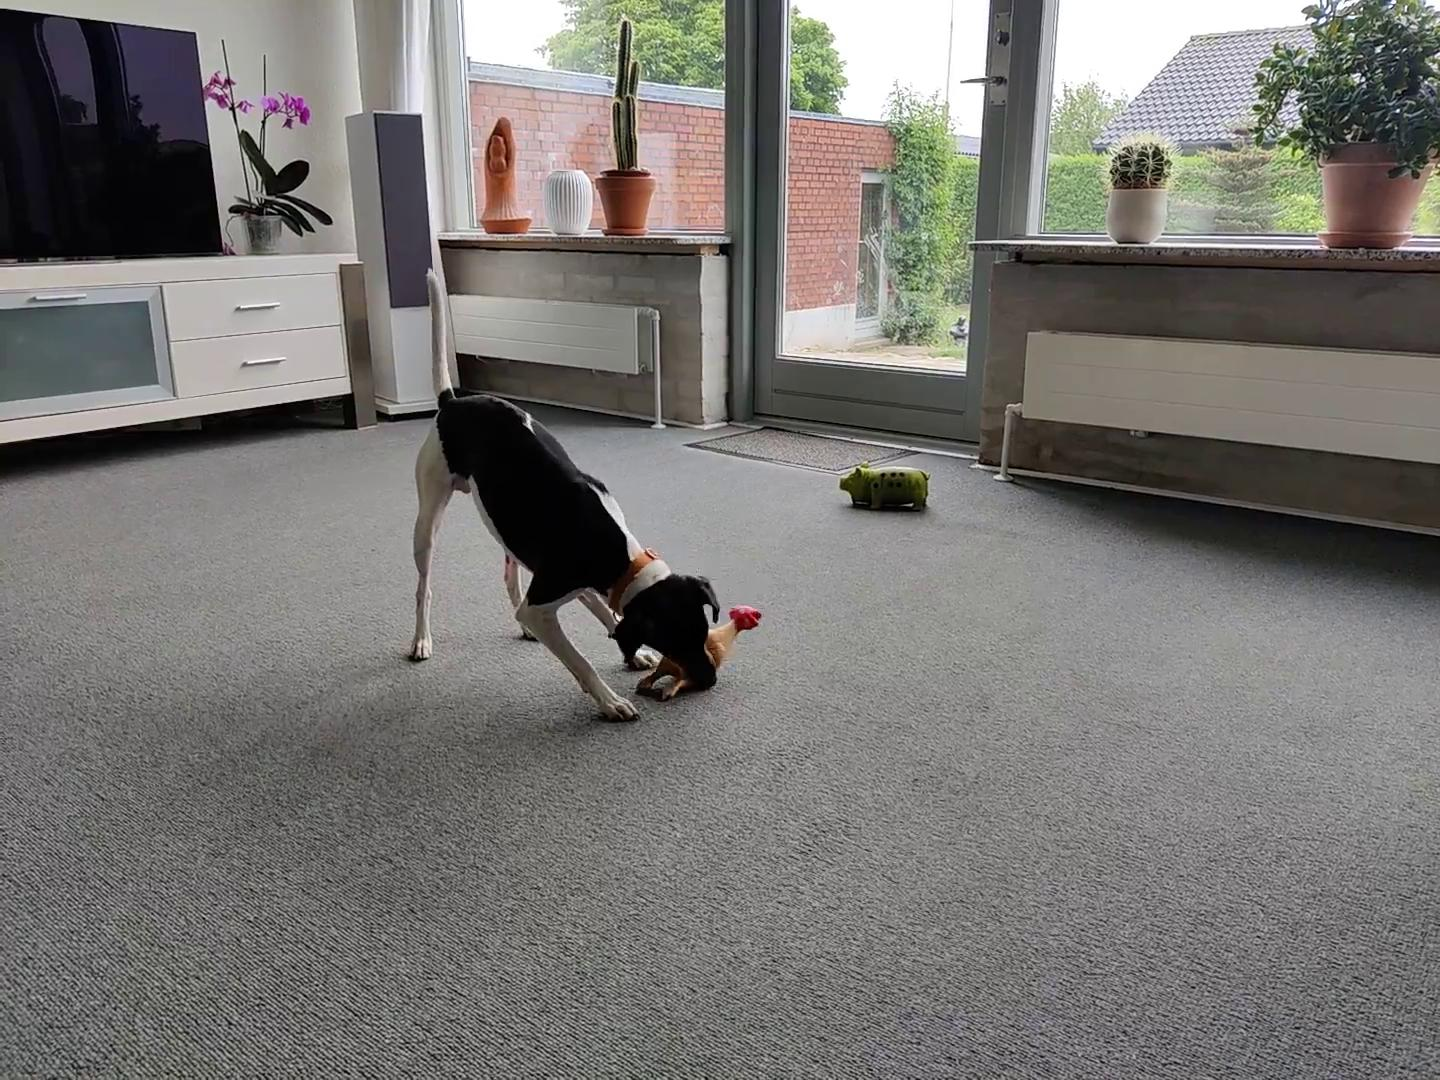Dog: (405, 263, 719, 723)
